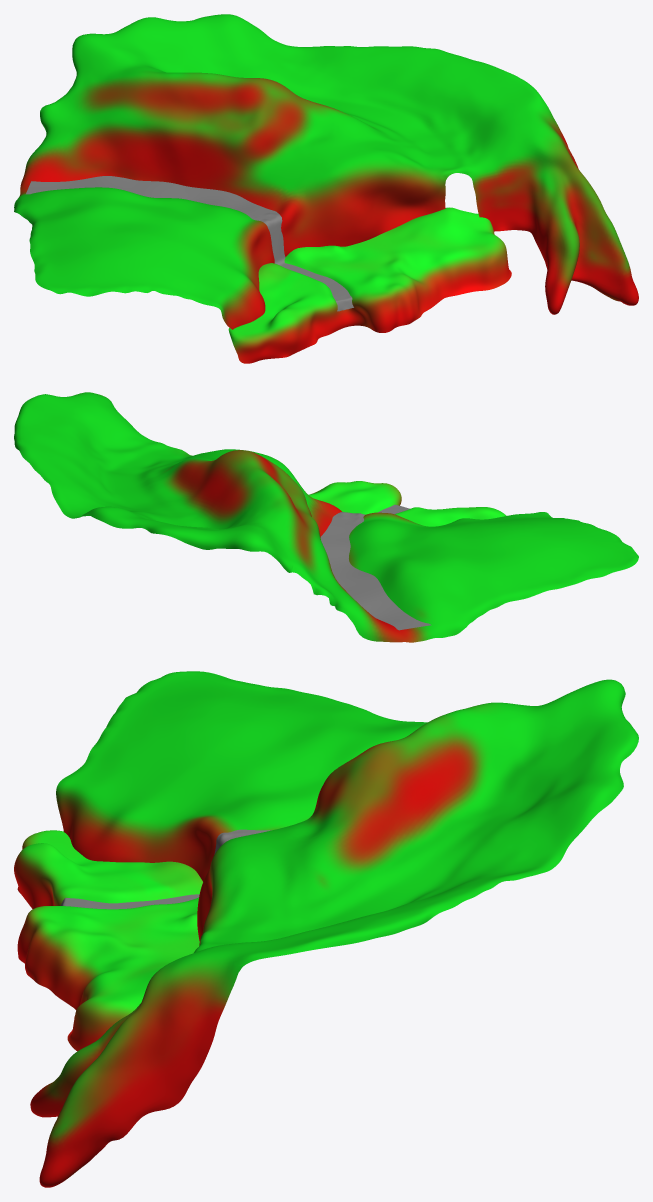
File: zforest.fbx
3 renders of one model, top to bottom at view 1: azimuth 30°, elevation 25°; view 2: azimuth 150°, elevation 25°; view 3: azimuth 270°, elevation 25°, orthographic. The views are drawn at different scales.
Parts seen in each view (by area): view 1: upper_ground, lower_ground, waterfall_and_stream; view 2: upper_ground, waterfall_and_stream, lower_ground; view 3: upper_ground, lower_ground, waterfall_and_stream.
Boxes of the visible parts, x1=… form: upper_ground: x1=14, y1=14, x2=638, y2=329; lower_ground: x1=228, y1=207, x2=511, y2=363; waterfall_and_stream: x1=26, y1=176, x2=353, y2=311; upper_ground: x1=14, y1=392, x2=638, y2=642; waterfall_and_stream: x1=320, y1=504, x2=431, y2=630; lower_ground: x1=308, y1=481, x2=506, y2=526; upper_ground: x1=30, y1=671, x2=638, y2=1187; lower_ground: x1=14, y1=830, x2=202, y2=1051; waterfall_and_stream: x1=60, y1=829, x2=271, y2=909.
Bounding box in the file's own units: 32898 × 11668 × 23746.
